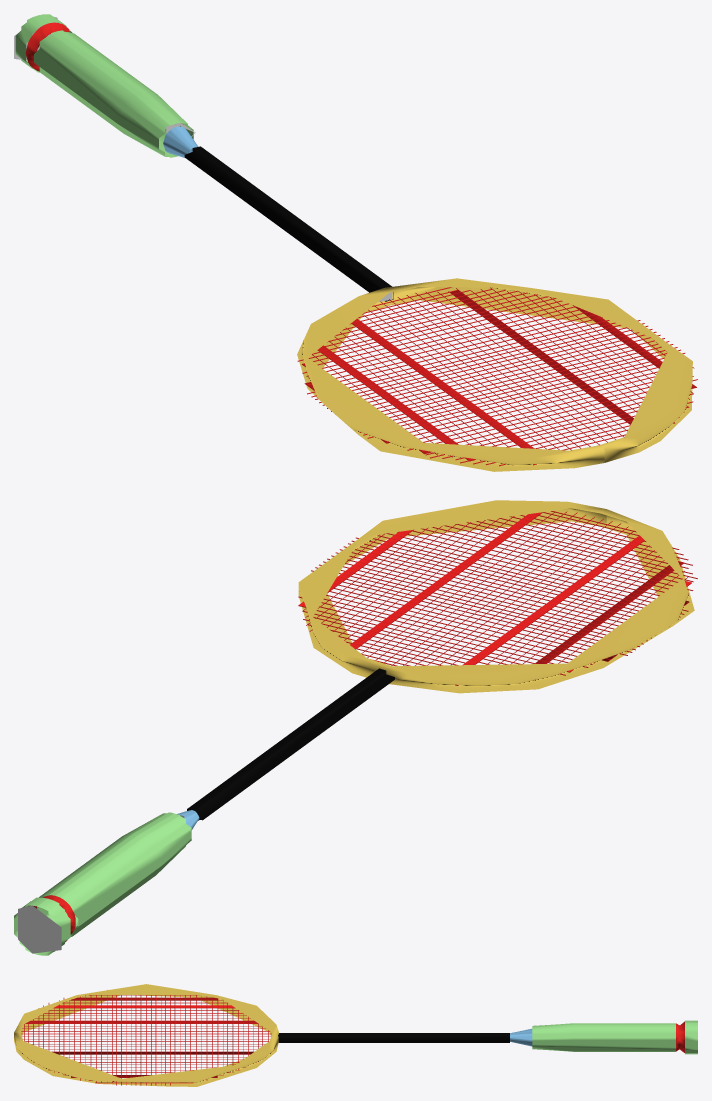
Rendered from realbadminton.glb.
The picture shows the model from 3 angles, top to bottom: view 1: azimuth 30°, elevation 25°; view 2: azimuth 150°, elevation 25°; view 3: azimuth 270°, elevation 25°; orthographic projection. The views are drawn at different scales.
Visible parts, largest first — view 1: Cylinder.025_2; view 2: Cylinder.025_2; view 3: Cylinder.025_2.
Part boxes in pixels (left/top/right/bottom): Cylinder.025_2: left=14, top=14, right=697, bottom=471; Cylinder.025_2: left=14, top=500, right=697, bottom=955; Cylinder.025_2: left=14, top=984, right=697, bottom=1086.
Size of the model in its own units: 0.2255 by 0.0315 by 0.67.
